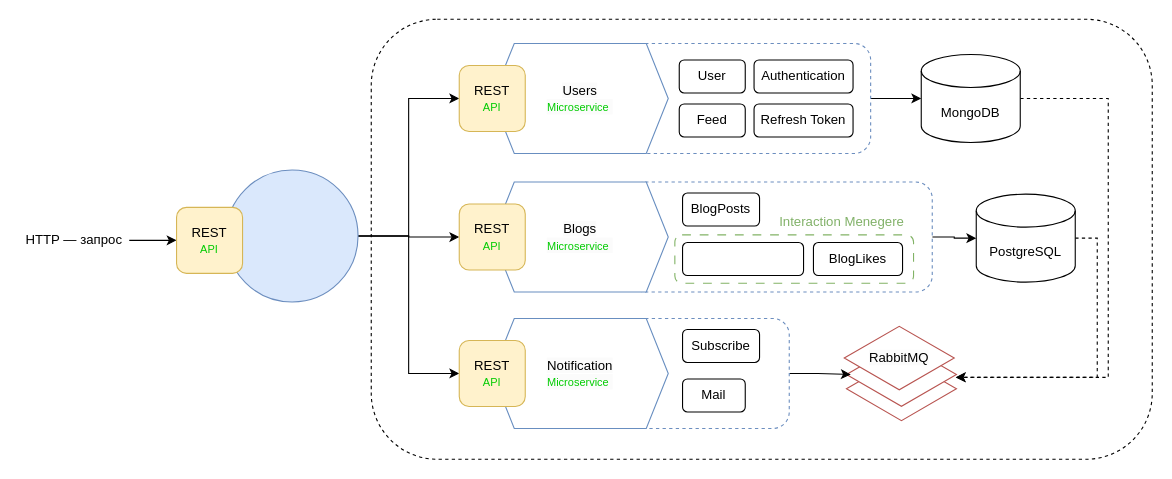
This 1172x479 diagram has some shape labels left out. Here are the shapes that lost their labels. From the top down, the centre of each, then its label:
[291,235]: API GATEWAY
[742,258]: BlogComments
